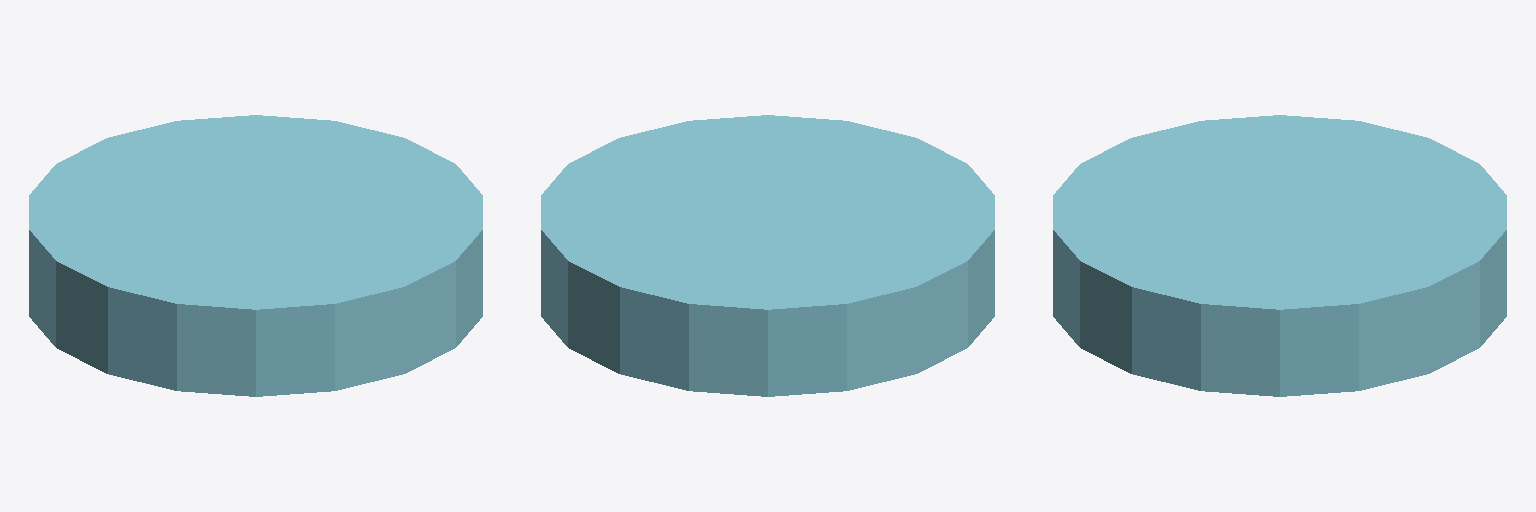
Rendered from test_turret.obj.
3 renders of one model, left to right at view 1: azimuth 30°, elevation 25°; view 2: azimuth 150°, elevation 25°; view 3: azimuth 270°, elevation 25°, orthographic.
Parts seen in each view (by area): view 1: Mesh__1; view 2: Mesh__1; view 3: Mesh__1.
Boxes of the visible parts, x1=… form: Mesh__1: x1=29, y1=115, x2=482, y2=396; Mesh__1: x1=541, y1=115, x2=994, y2=396; Mesh__1: x1=1053, y1=115, x2=1506, y2=396.
Size of the model in its own units: 42.82 by 8.94 by 42.17.